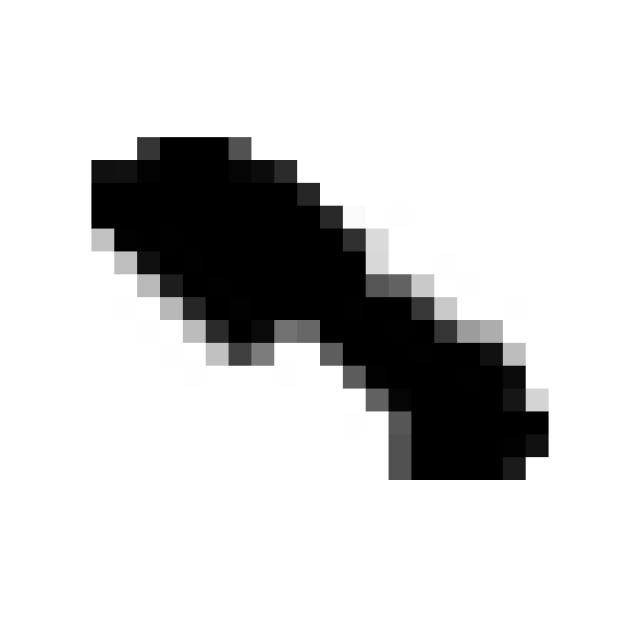0 -zero-: (71, 107, 562, 506)
